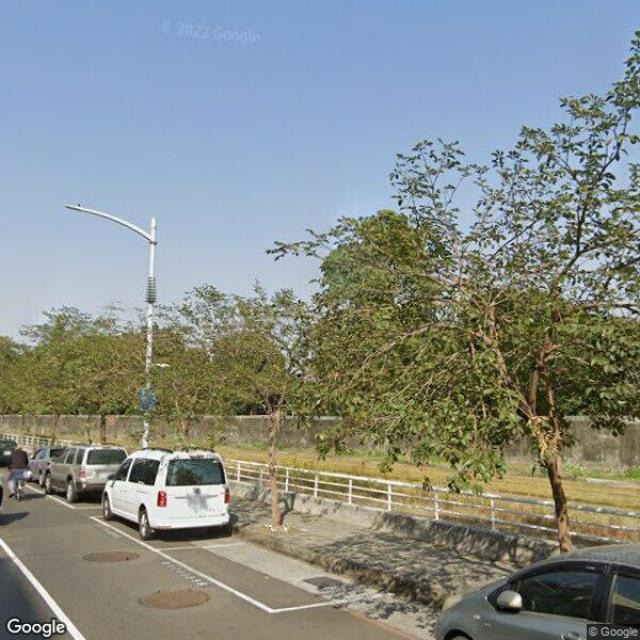Legalparking: (436, 546, 639, 639), (32, 445, 230, 540)
